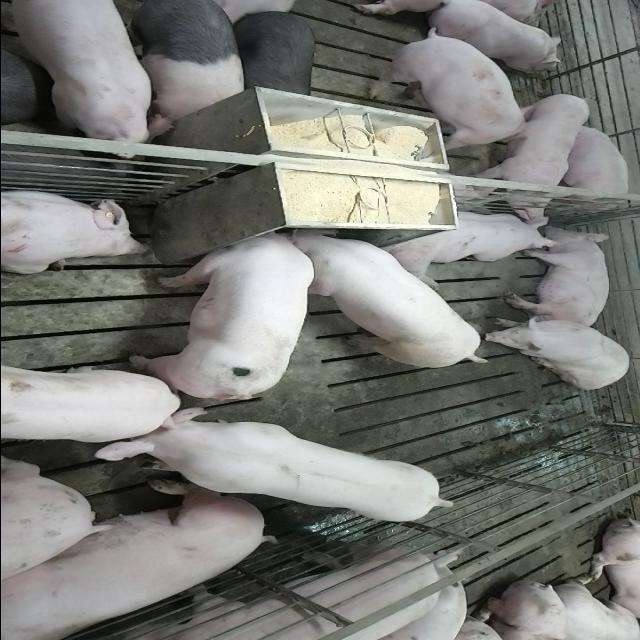Feeding: (126, 222, 314, 396), (284, 230, 496, 374)
Lateral_lying: (501, 224, 612, 330)
Sitting: (480, 316, 633, 390)
Standing: (0, 543, 468, 640), (99, 411, 451, 524), (0, 2, 160, 148), (362, 28, 532, 150), (0, 365, 178, 465), (466, 92, 589, 222), (125, 2, 248, 124)
Sternal_lying: (376, 208, 556, 282), (0, 187, 151, 275), (418, 2, 566, 71), (548, 124, 632, 211)
